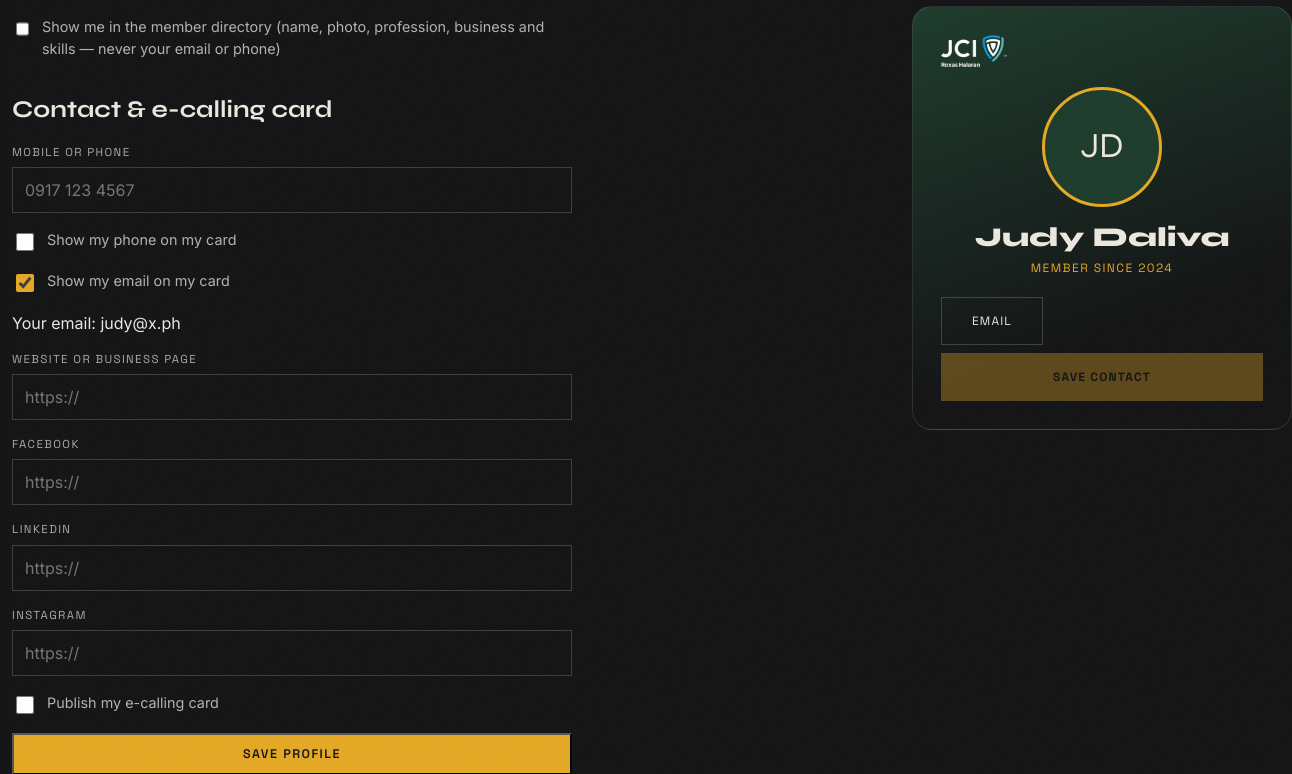
Scenario: ProfileForm live preview › asks for consent only when publishing
The width and height of the screenshot is (1292, 774).
(page scrolled)
Expected: the field labelled "I agree to show the details" is not shown
Step 1. Click the checkbox labelled "Publish my e-calling card" → (25, 705), box left=16, top=696, right=34, bottom=714
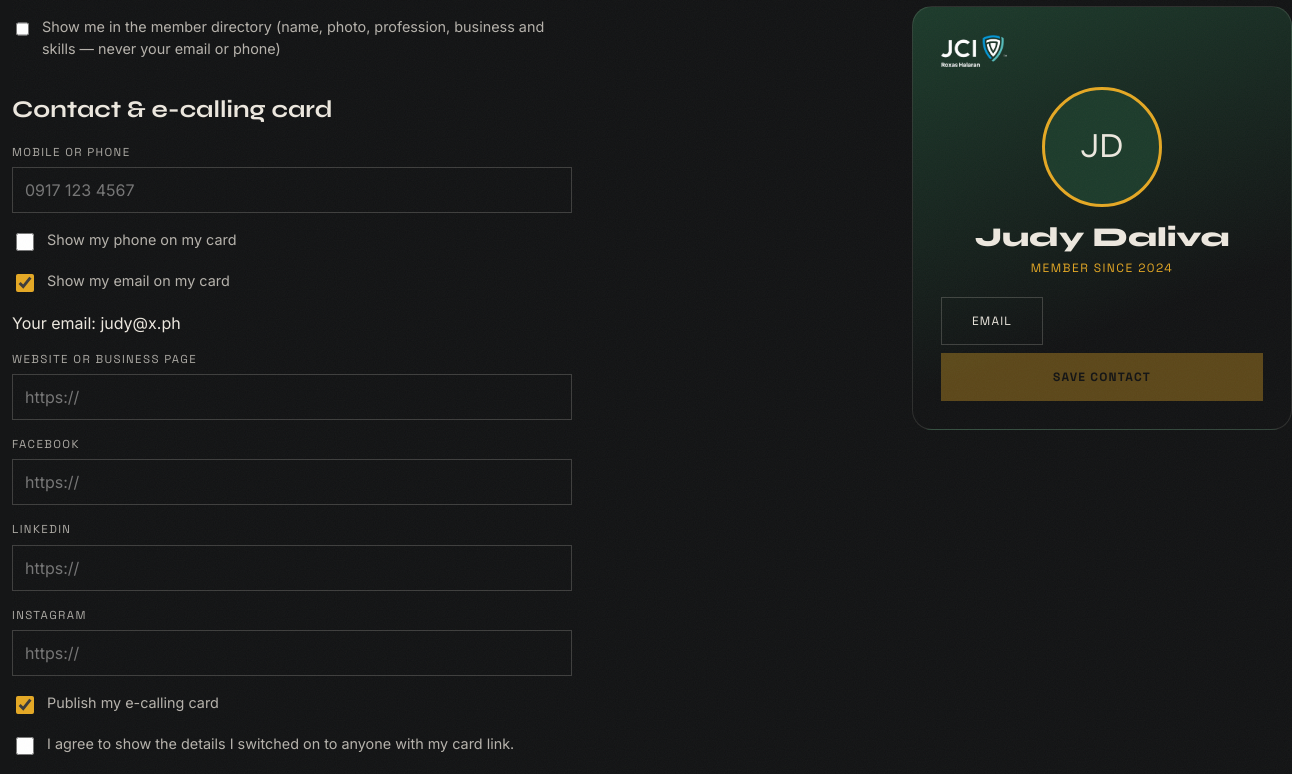
Now the checkbox labelled "I agree to show the details" is shown, box left=16, top=737, right=34, bottom=755
